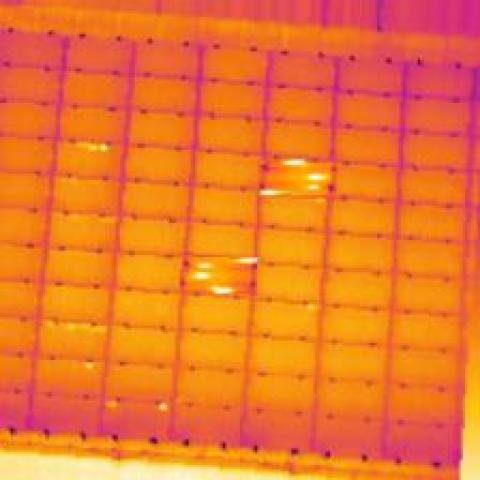fault: (201, 283, 236, 298), (253, 182, 287, 195), (71, 142, 109, 152), (225, 255, 257, 266), (276, 152, 306, 163), (302, 172, 330, 182), (187, 270, 212, 281), (103, 396, 120, 412), (191, 257, 214, 268), (304, 180, 322, 193), (81, 360, 94, 371), (302, 302, 315, 313), (156, 401, 170, 409)
